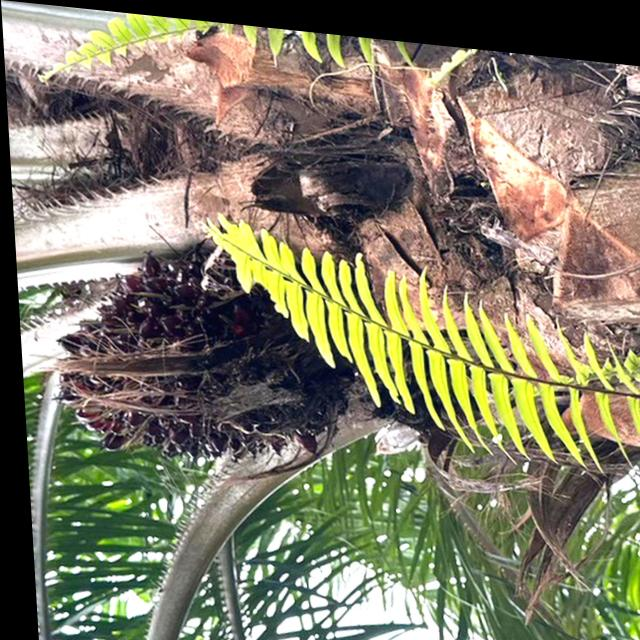ripe: (23, 218, 365, 492)
